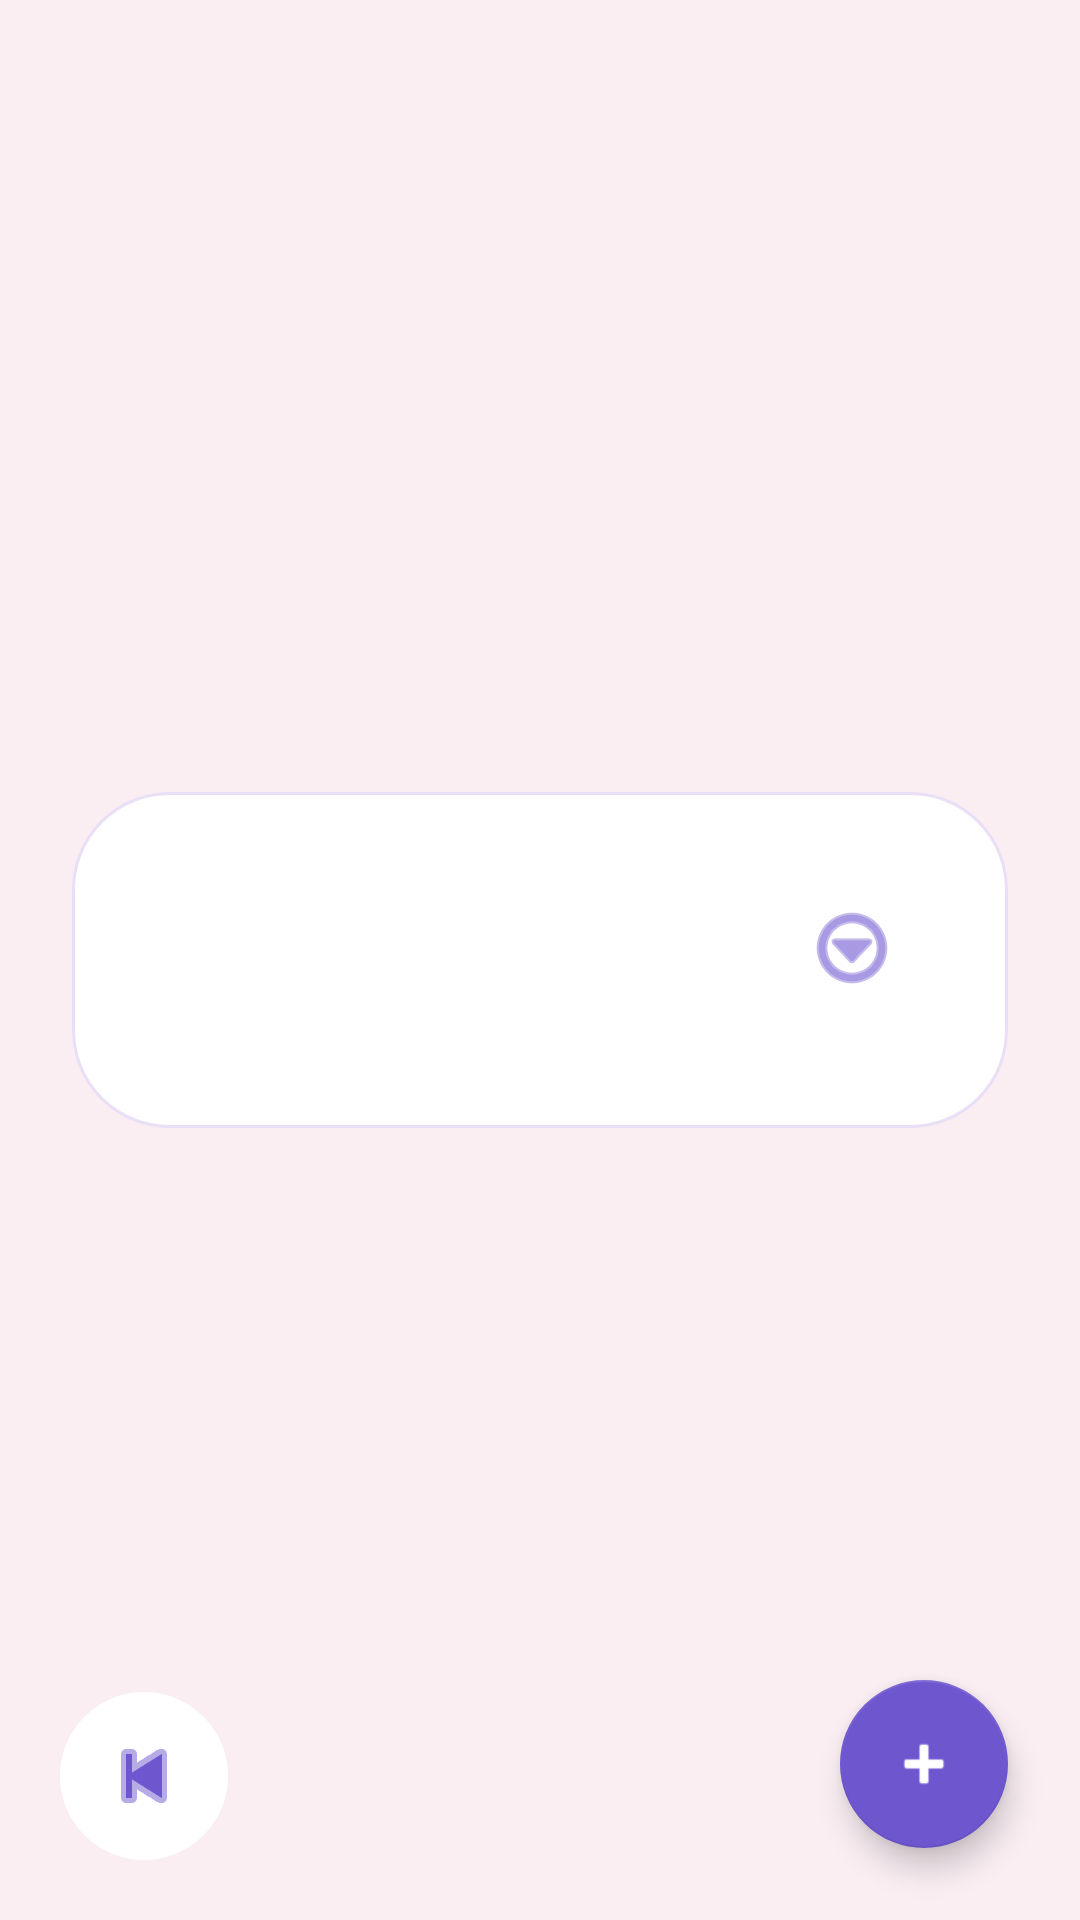

Icons on this 1080*1920 Android screen, each with its box as (x1, y1, x2, y2):
add: (840, 1680, 1008, 1848)
more: (817, 913, 887, 983)
previous: (121, 1749, 167, 1803)
